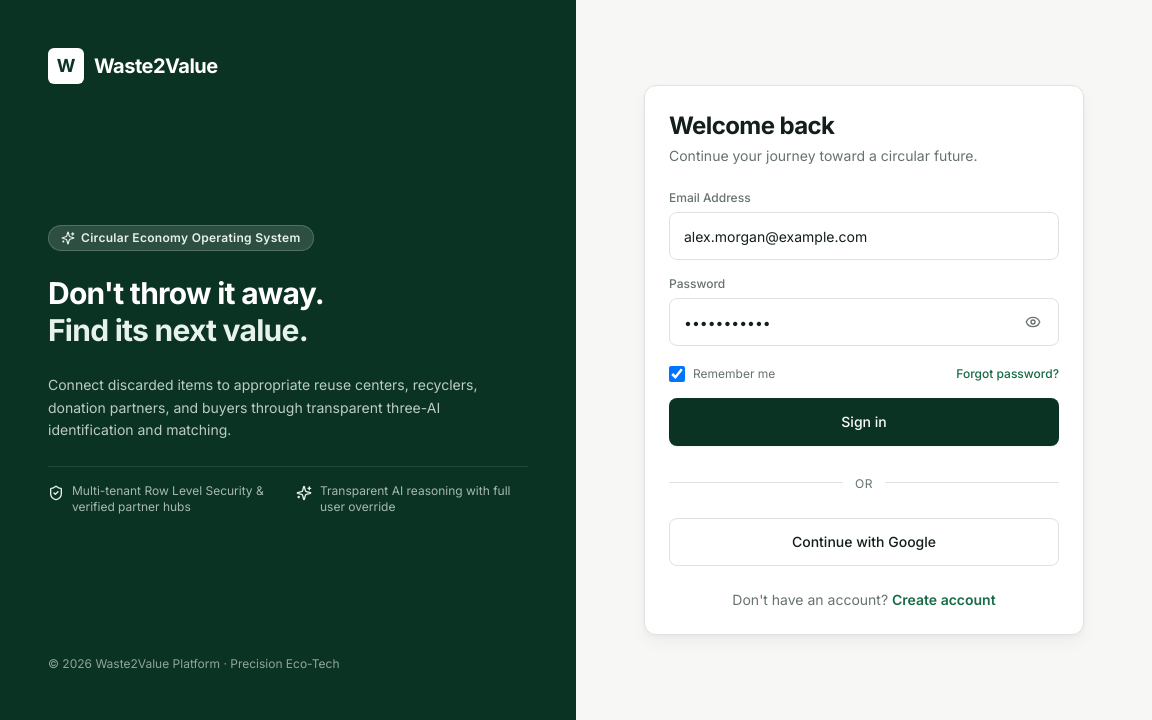
Test: Authentication Flows & Security UX › LoginPage Behavior › validates required email and password fields on submit
The image size is (1152, 720).
Clear default values
Clear the field labelled "Email Address": (864, 236) [669,212,1059,260]
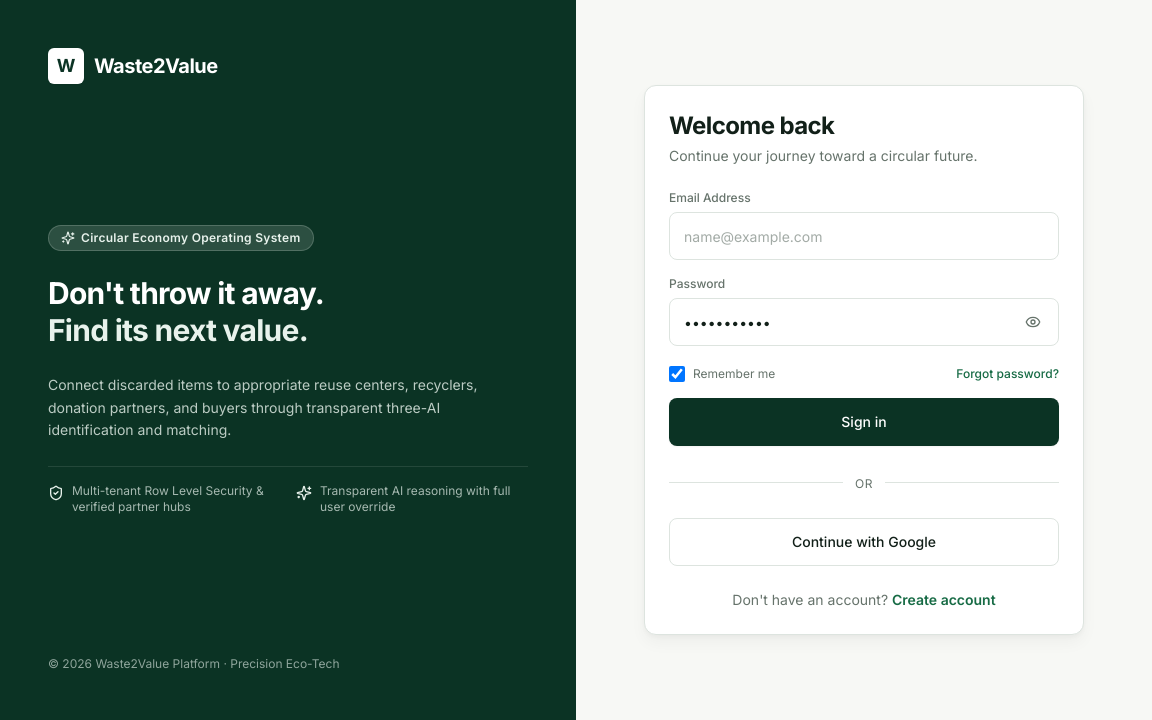
Clear the password field labelled "Password": (864, 322) [669,298,1059,346]
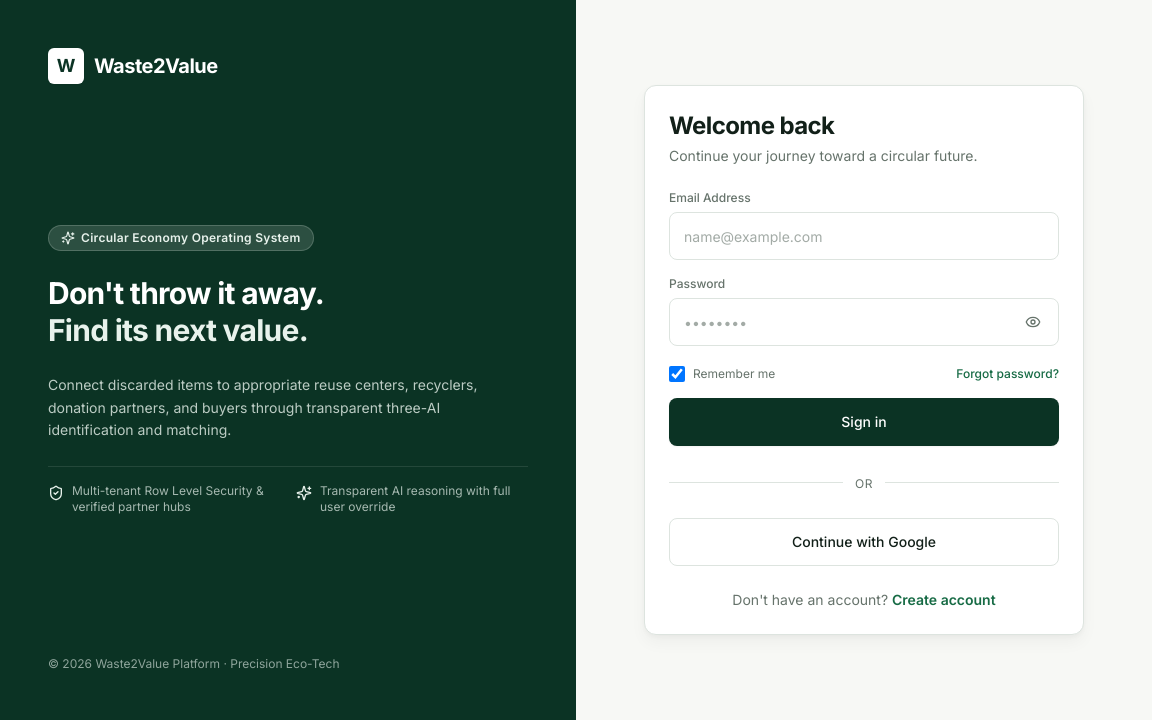
Click the button "Sign in": (864, 422) [669,398,1059,446]
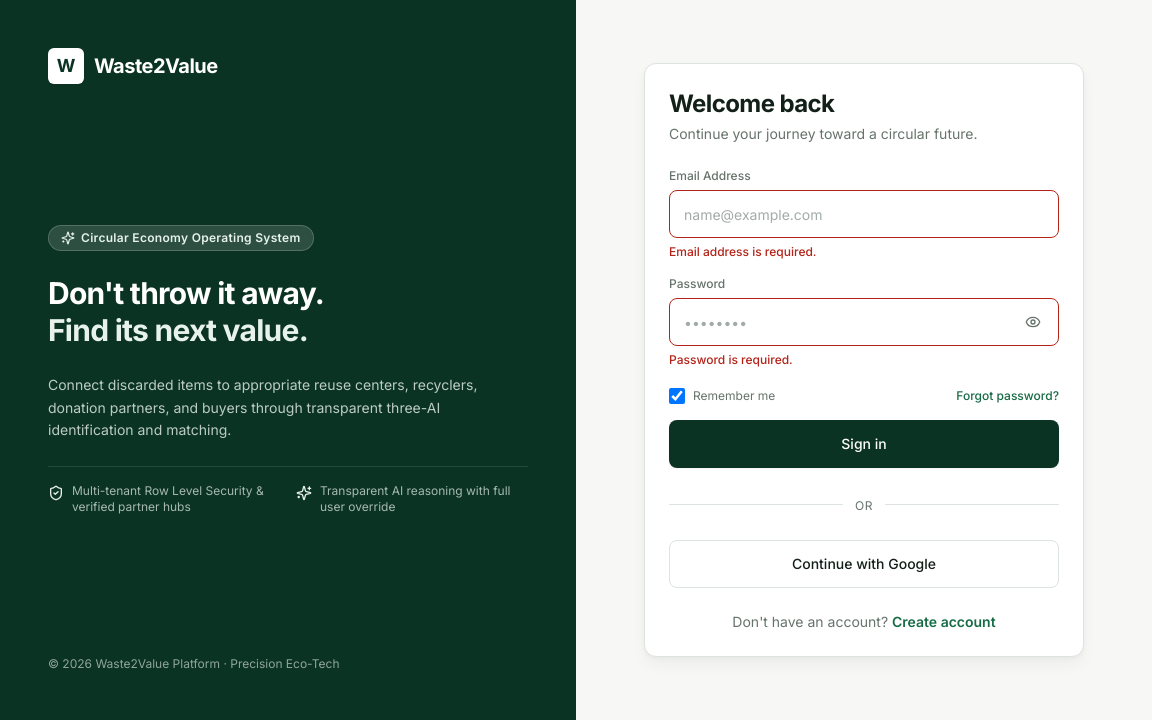
Now the text "Email address is required." is shown, box [669,244,816,259]
Now the text "Password is required." is shown, box [669,352,793,367]
